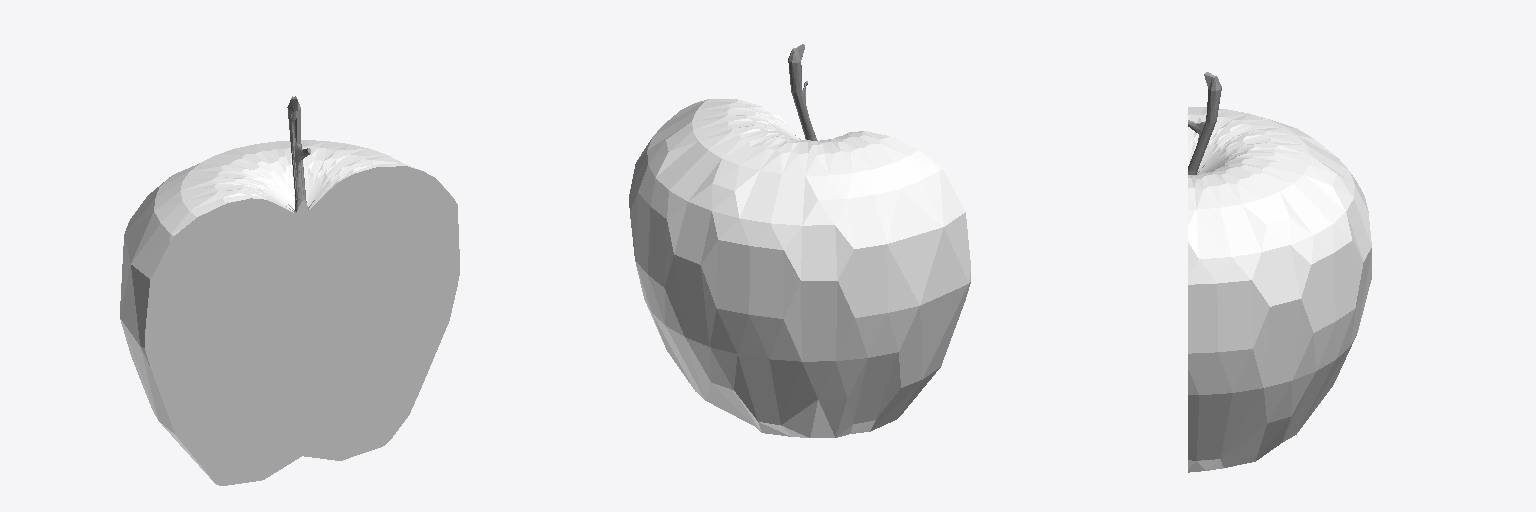
Rendered from appeltjeO.obj.
3 views of the same model, side by side, from view 1: azimuth 30°, elevation 25°; view 2: azimuth 150°, elevation 25°; view 3: azimuth 270°, elevation 25° (orthographic).
Visible parts, largest first — view 1: Object.1; view 2: Object.1; view 3: Object.1.
Boxes of the visible parts, x1=… form: Object.1: x1=120, y1=96, x2=459, y2=485; Object.1: x1=629, y1=44, x2=970, y2=437; Object.1: x1=1188, y1=72, x2=1371, y2=472.
Size of the model in its own units: 30.82 by 34.15 by 15.53.